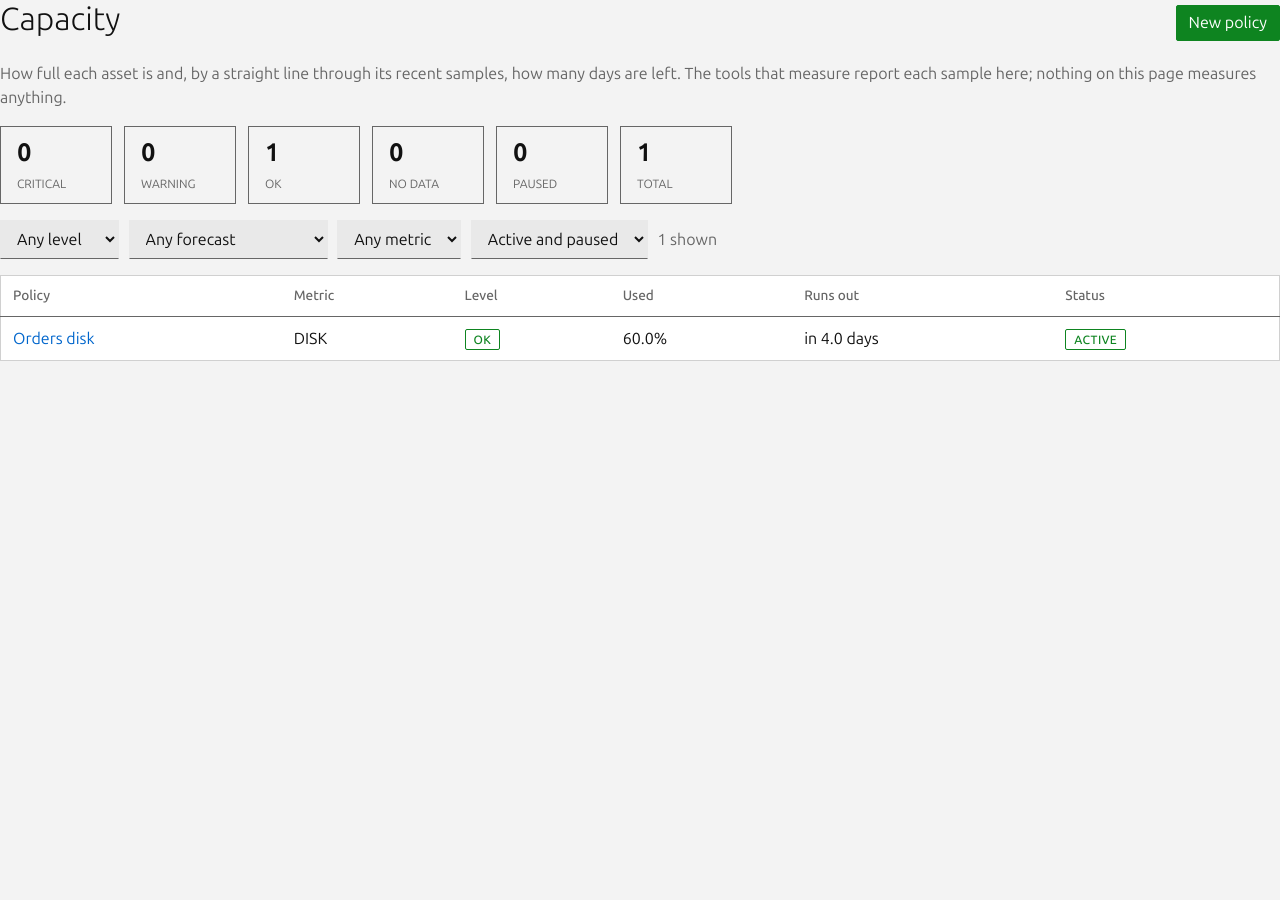
Test: a new policy › needs a name, an asset and a limit; sends the defaults of the rest
The image size is (1280, 900).
Expected: the button "Orders disk" is shown, x1=13 y1=327 x2=95 y2=351
Click the button "New policy": (1228, 23) x1=1176 y1=5 x2=1279 y2=41
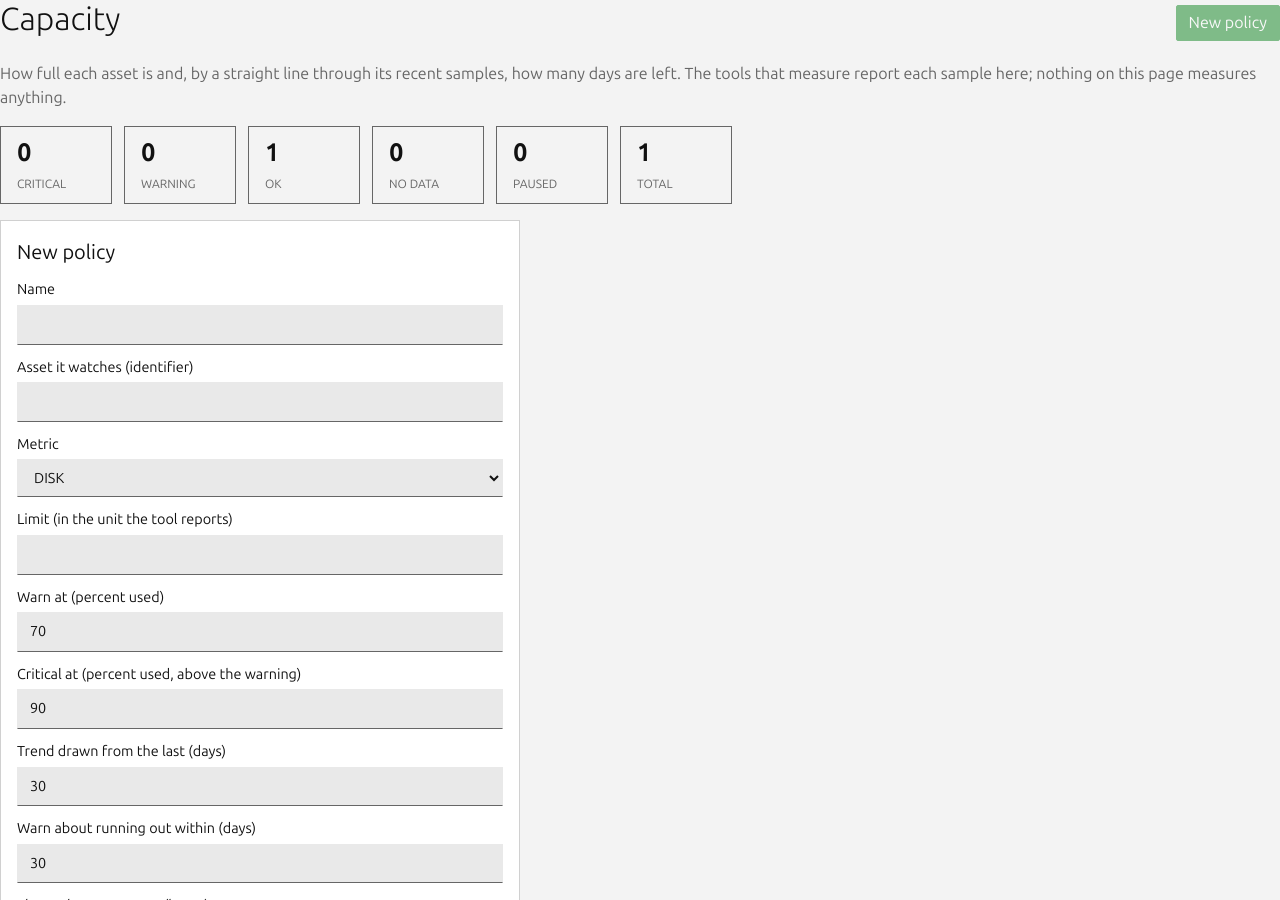
In the field labelled "Name": (260, 325) x1=17 y1=305 x2=503 y2=345, type " Mail "
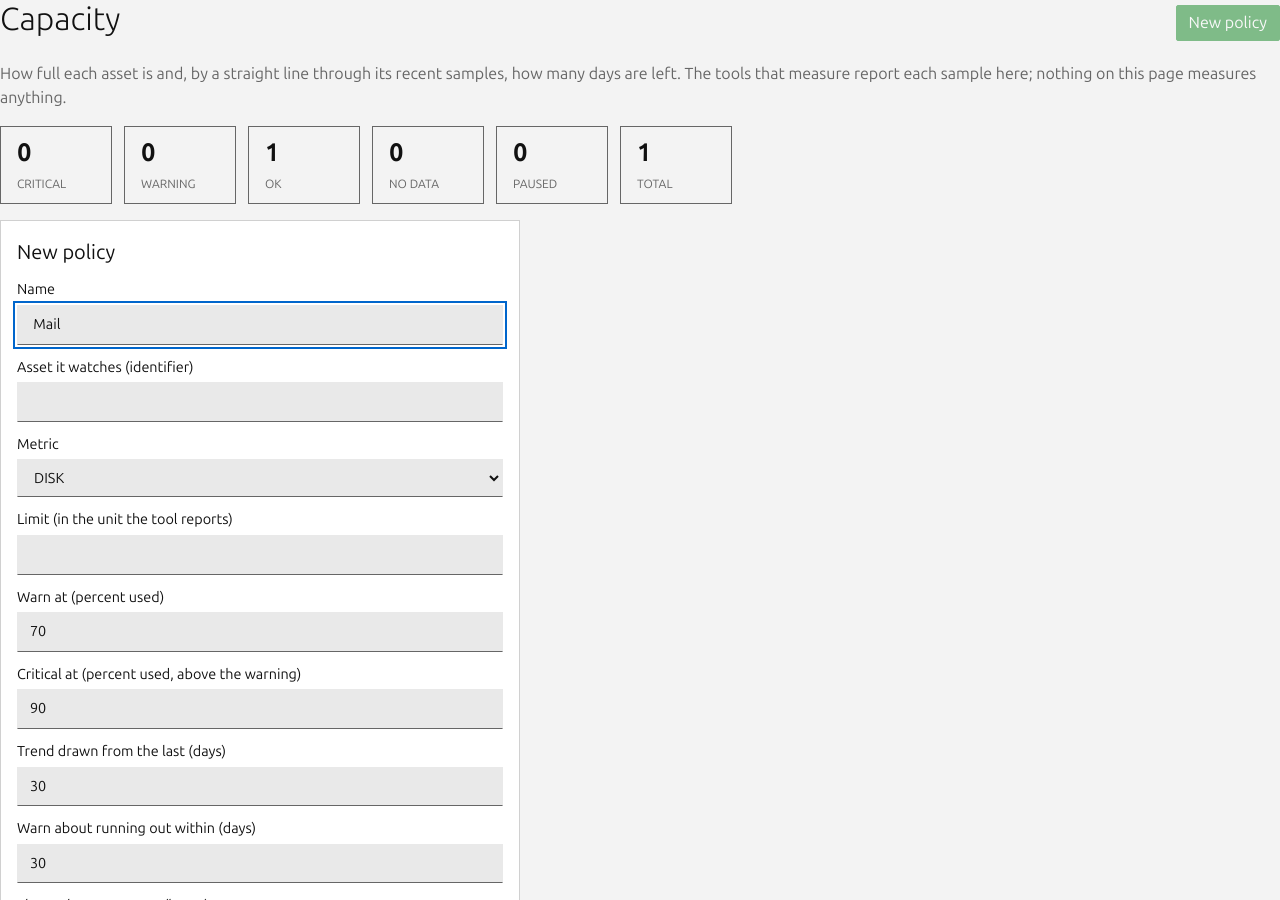
In the field labelled "Asset it watches (identifier)": (260, 402) x1=17 y1=382 x2=503 y2=422, type " a9 "
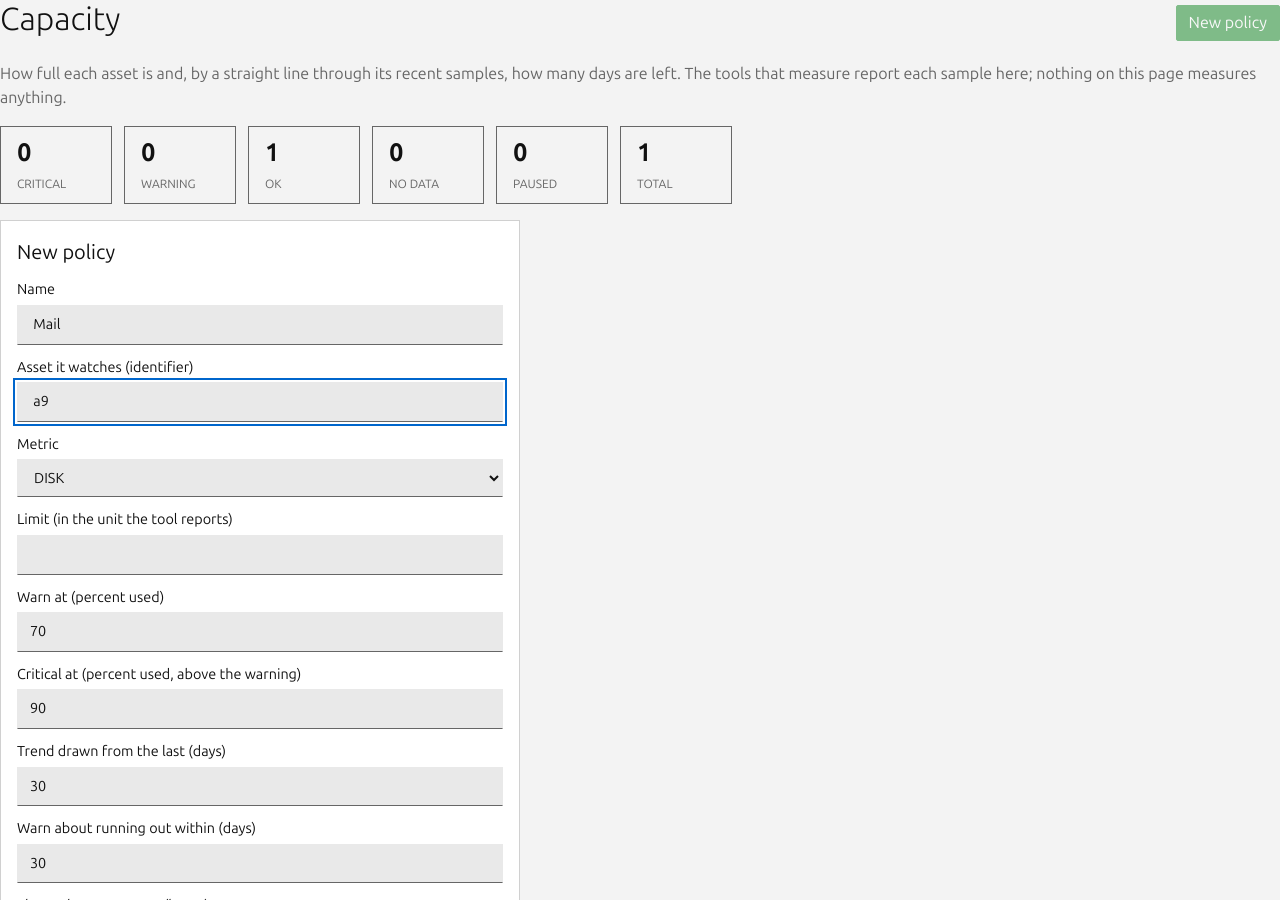
In the field labelled "Limit (in the unit the tool reports)": (260, 555) x1=17 y1=535 x2=503 y2=575, type "250"
(page scrolled)
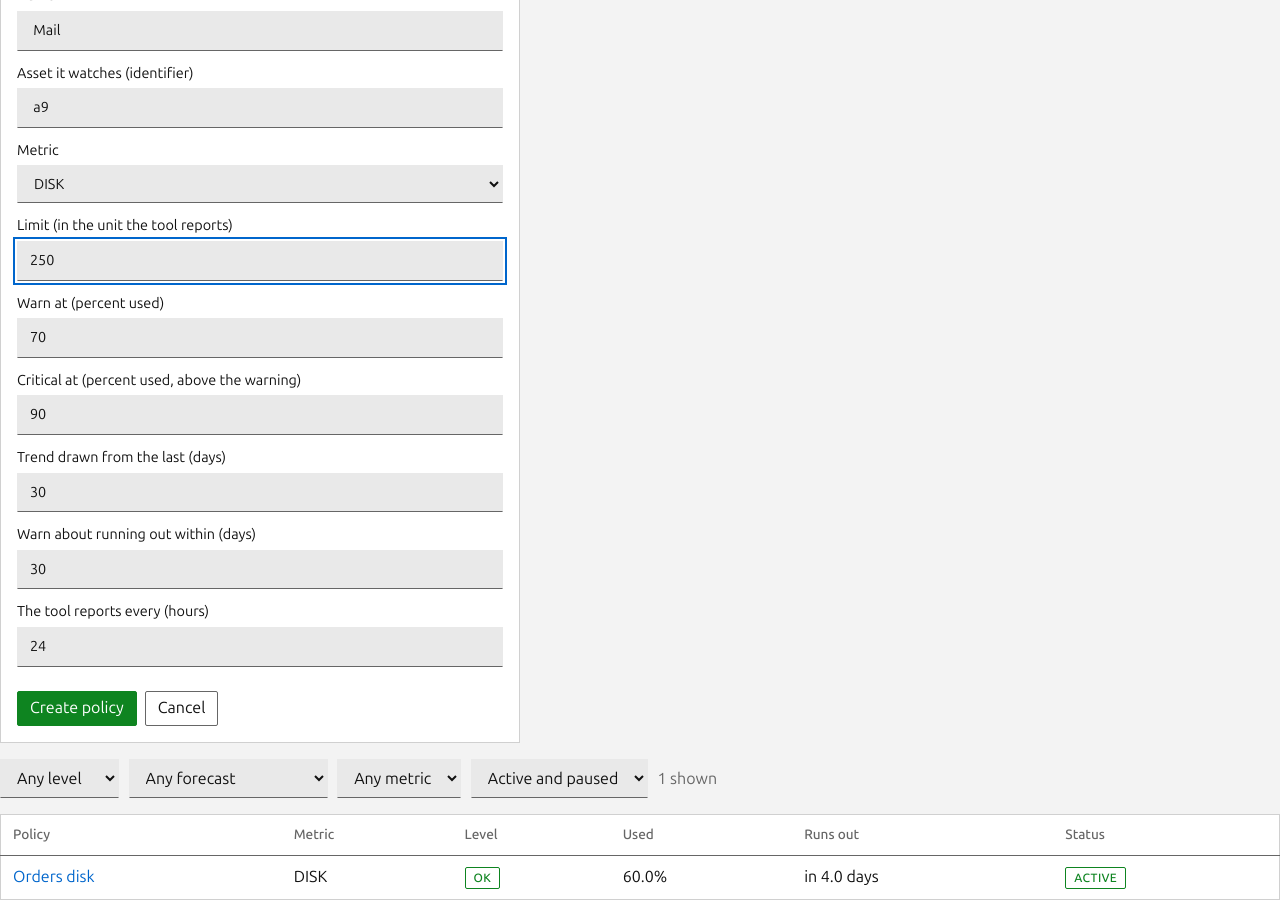
Now the button "Create policy" is enabled
Click the button "Create policy": (77, 708) x1=17 y1=690 x2=137 y2=726
(page scrolled)
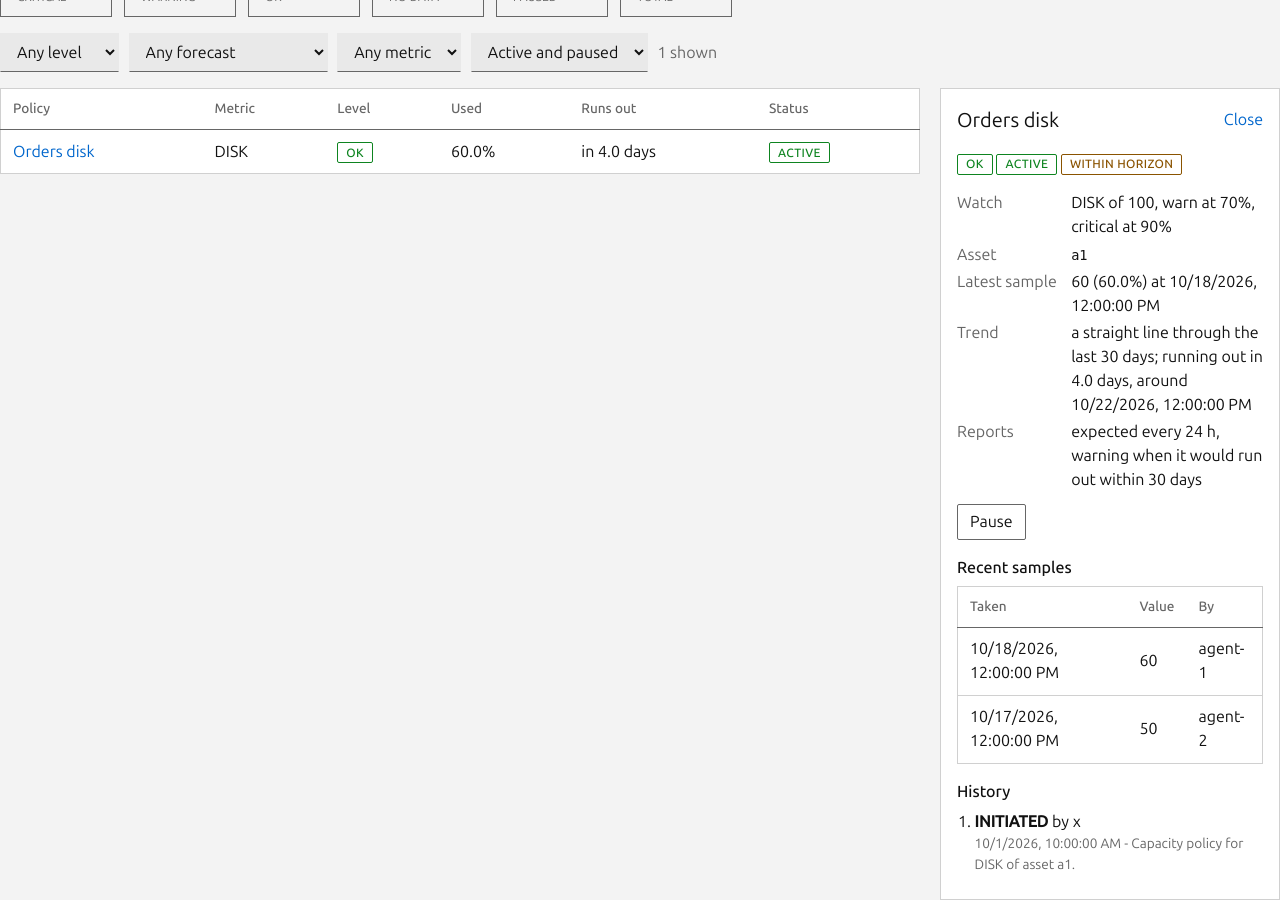
Expected: the form "New policy" is not shown
Now the element named "Policy detail" is shown, box x1=940 y1=88 x2=1279 y2=899
